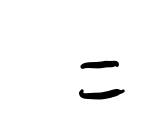eqv: (75, 59, 129, 104)
